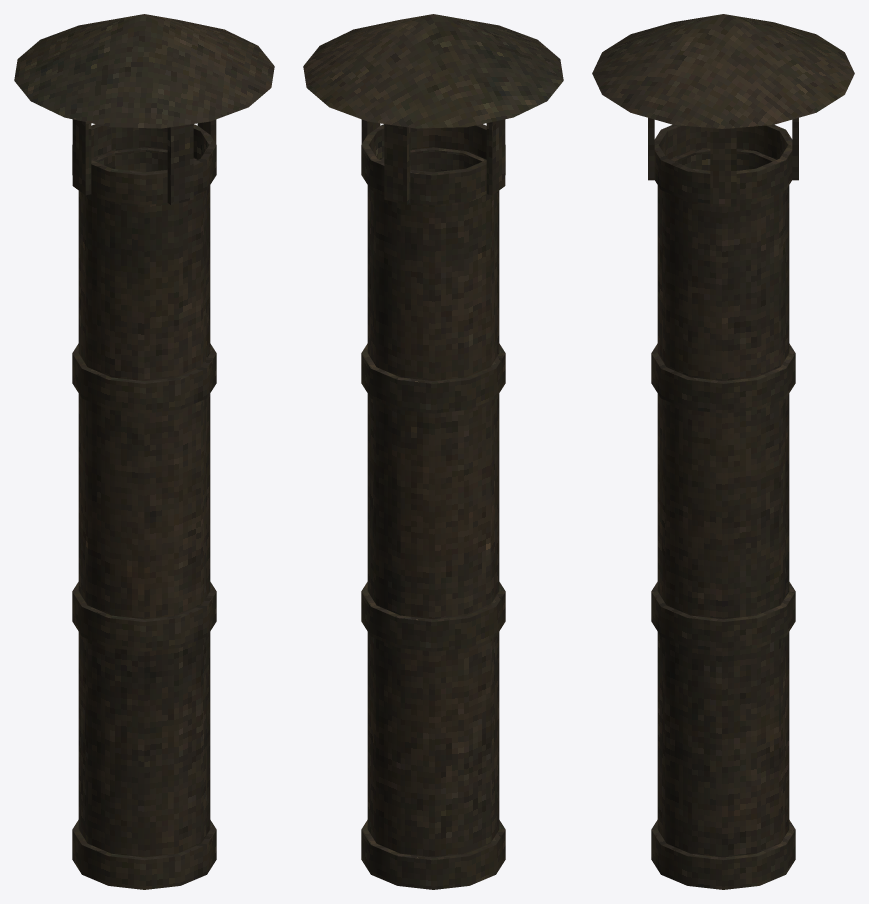
Rendered from chimney_a_2_1.glb.
3 renders of one model, left to right at view 1: azimuth 30°, elevation 25°; view 2: azimuth 150°, elevation 25°; view 3: azimuth 270°, elevation 25°, orthographic.
Visible parts, largest first — view 1: chimney_a_2_1; view 2: chimney_a_2_1; view 3: chimney_a_2_1.
Part boxes in pixels (x1=…): chimney_a_2_1: x1=14, y1=14, x2=274, y2=889; chimney_a_2_1: x1=303, y1=14, x2=563, y2=889; chimney_a_2_1: x1=592, y1=14, x2=854, y2=889.
Bounding box in the file's own units: 0.4 × 1.42 × 0.4.
Materials: 1 (1 with a texture image).
